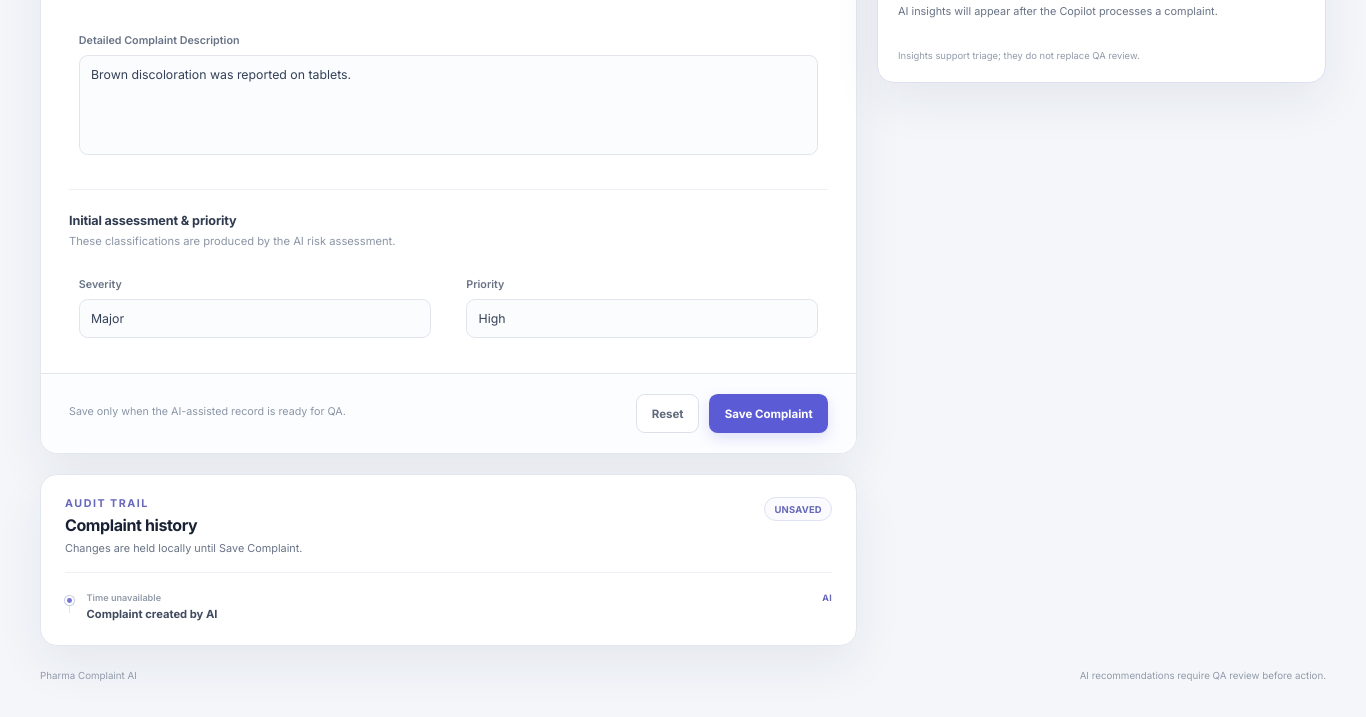
Test: ComplaintPage AI workflow › shows the complaint number after an explicit save
(page scrolled)
What coordinates should you click on to do the following:
click the button "Save Complaint"
I would click on:
 (769, 414)
Its box is [709, 394, 828, 433].
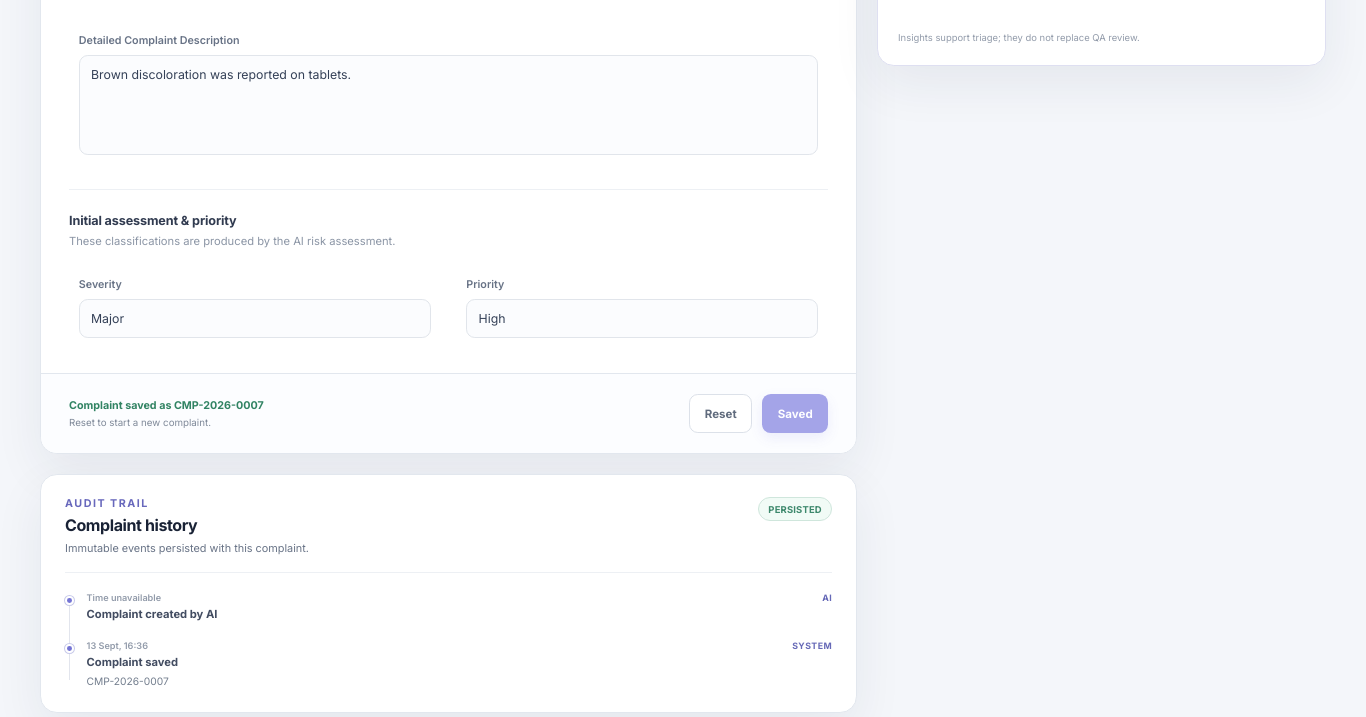
expect the text "Complaint saved as CMP-2026-0007" is shown: met, box [69, 398, 264, 413]
expect the text "Complaint saved" is shown: met, box [87, 655, 178, 669]
